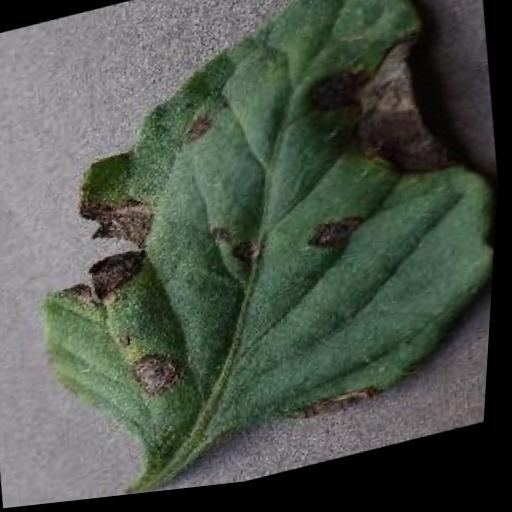Early Blight: (2, 0, 512, 487)
